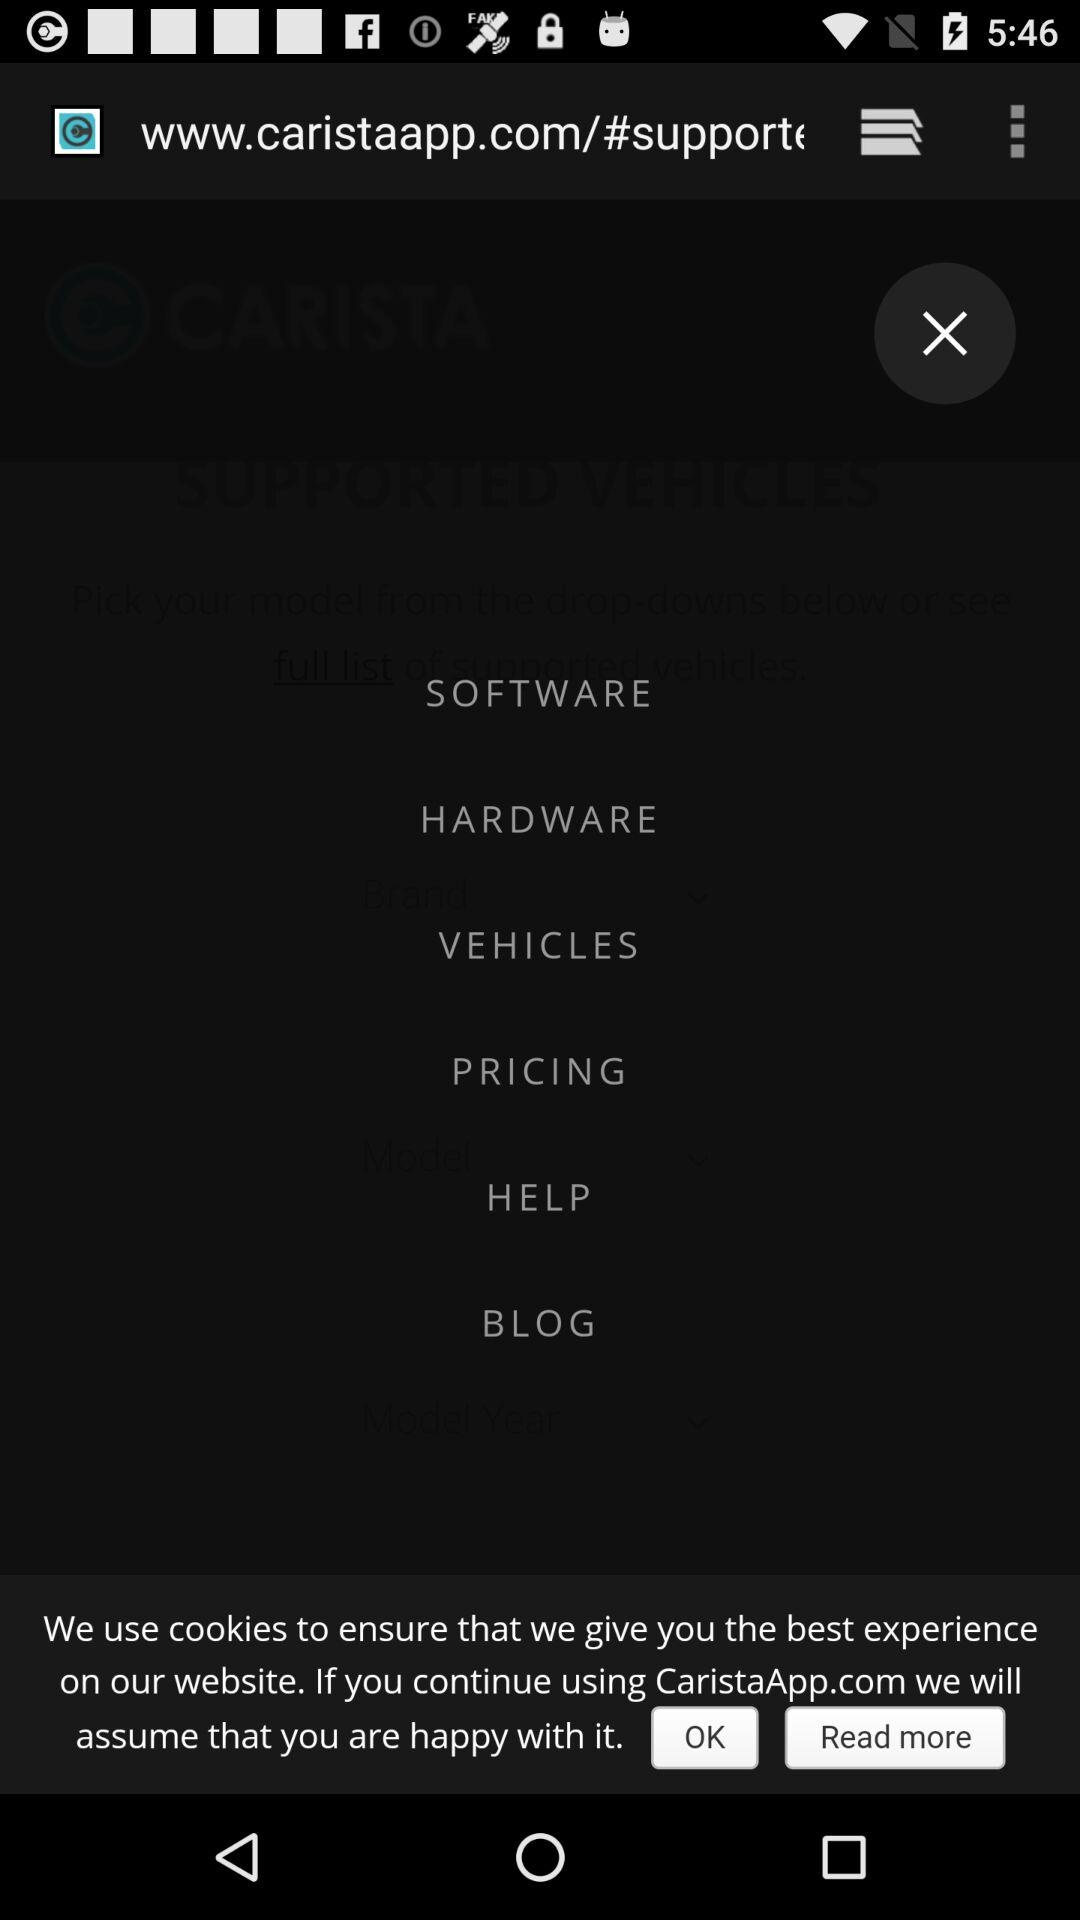SpecialButton: (828, 63, 953, 200), (953, 63, 1075, 200)
